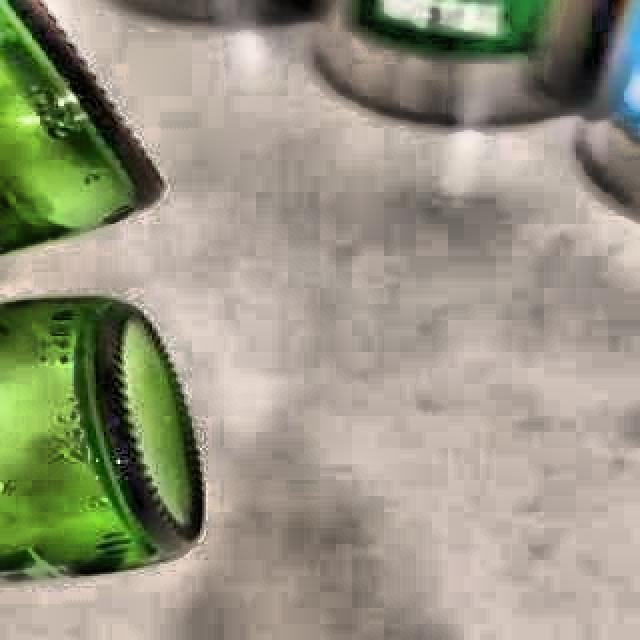glass: (0, 297, 203, 587)
